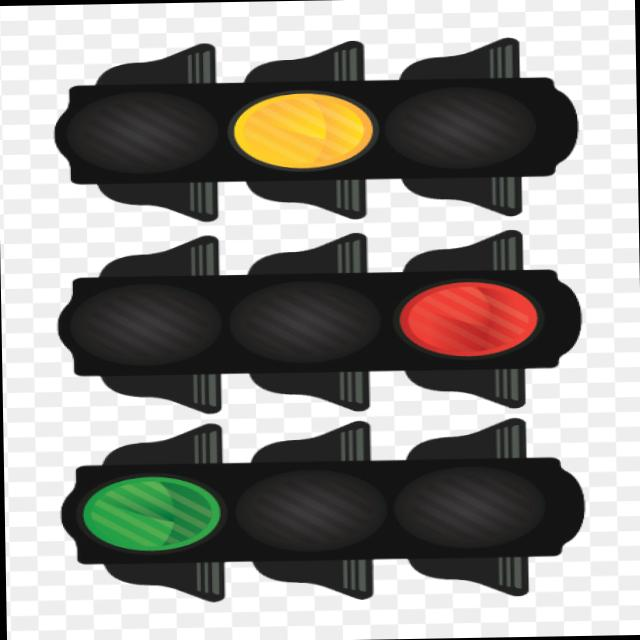green-lights: (84, 472, 220, 556)
red-lights: (389, 273, 562, 364)
yellow-lights: (224, 88, 381, 176)
